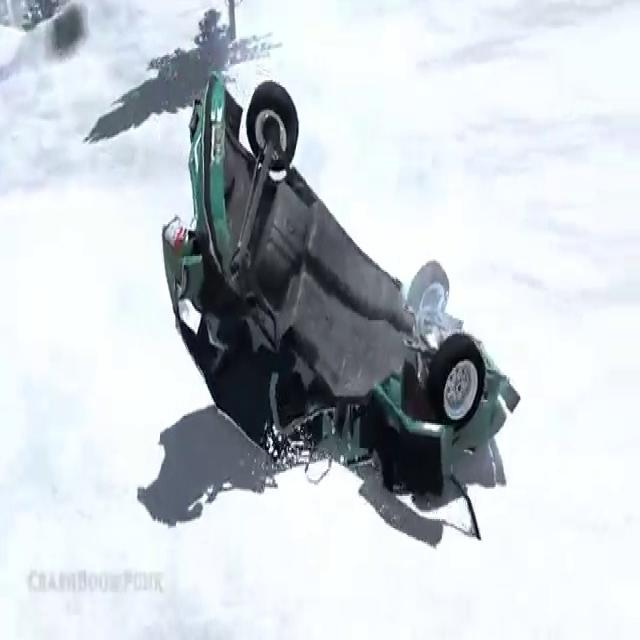accident: (153, 61, 508, 514)
